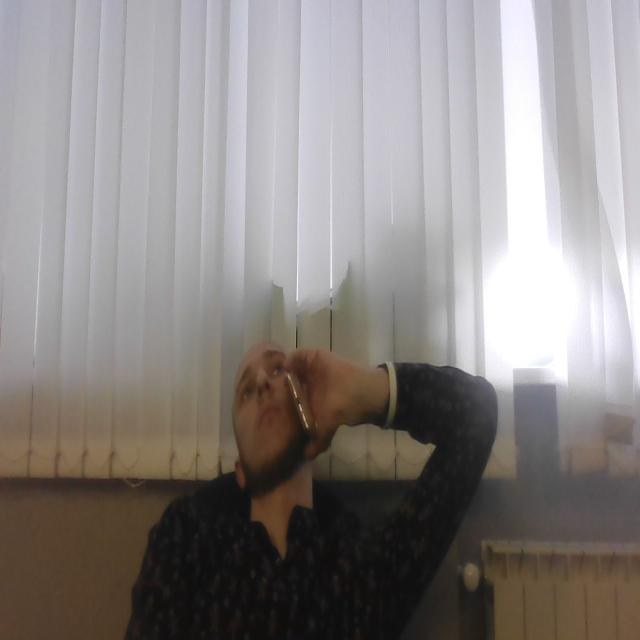phone: (286, 368, 316, 434)
